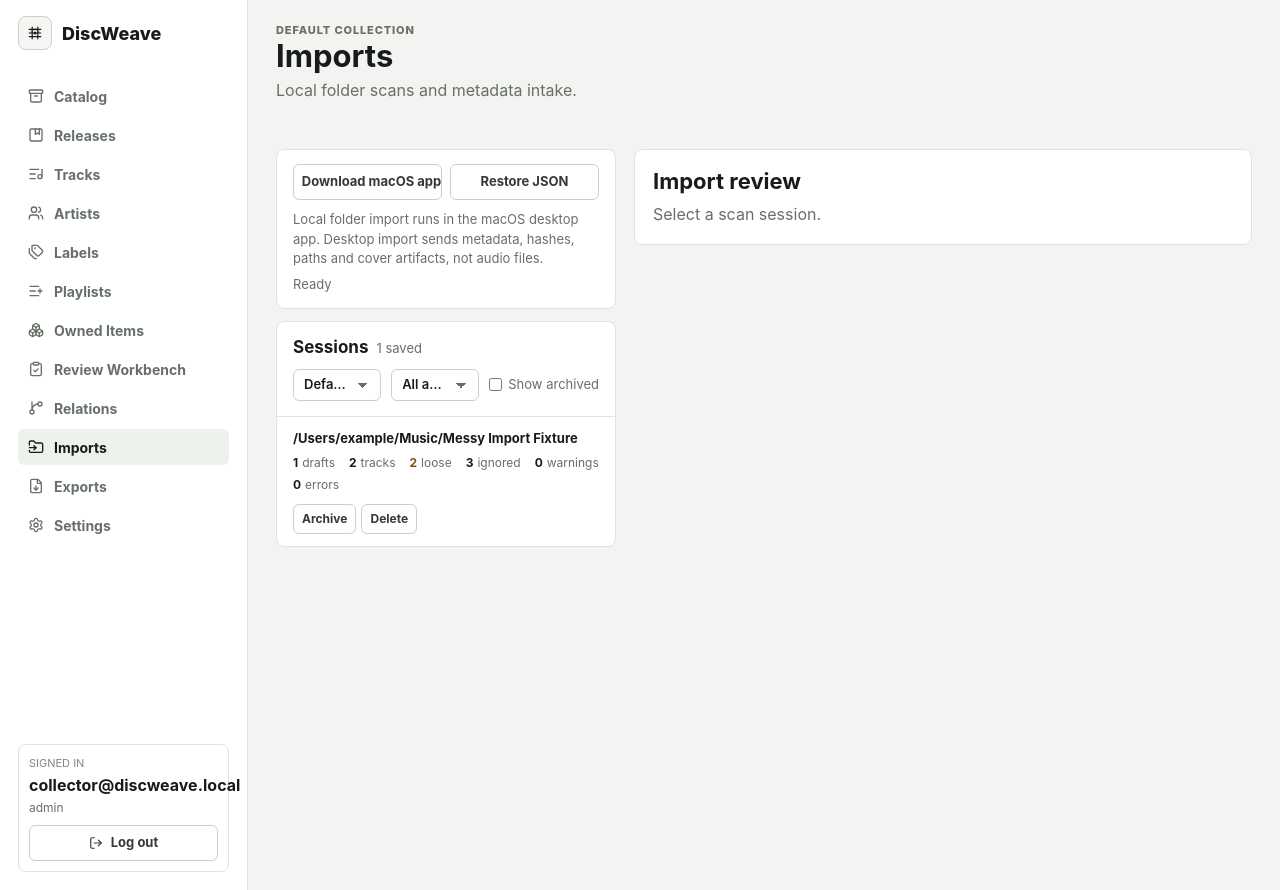
Test: App import regression fixtures › renders messy import drafts diagnostics and loose-file action affordances
What coordinates should you click on to do the following:
click the button "/Users/example/Music/Messy Import Fixture"
I would click on:
 (446, 438)
Its box is [293, 430, 599, 447].
(page scrolled)
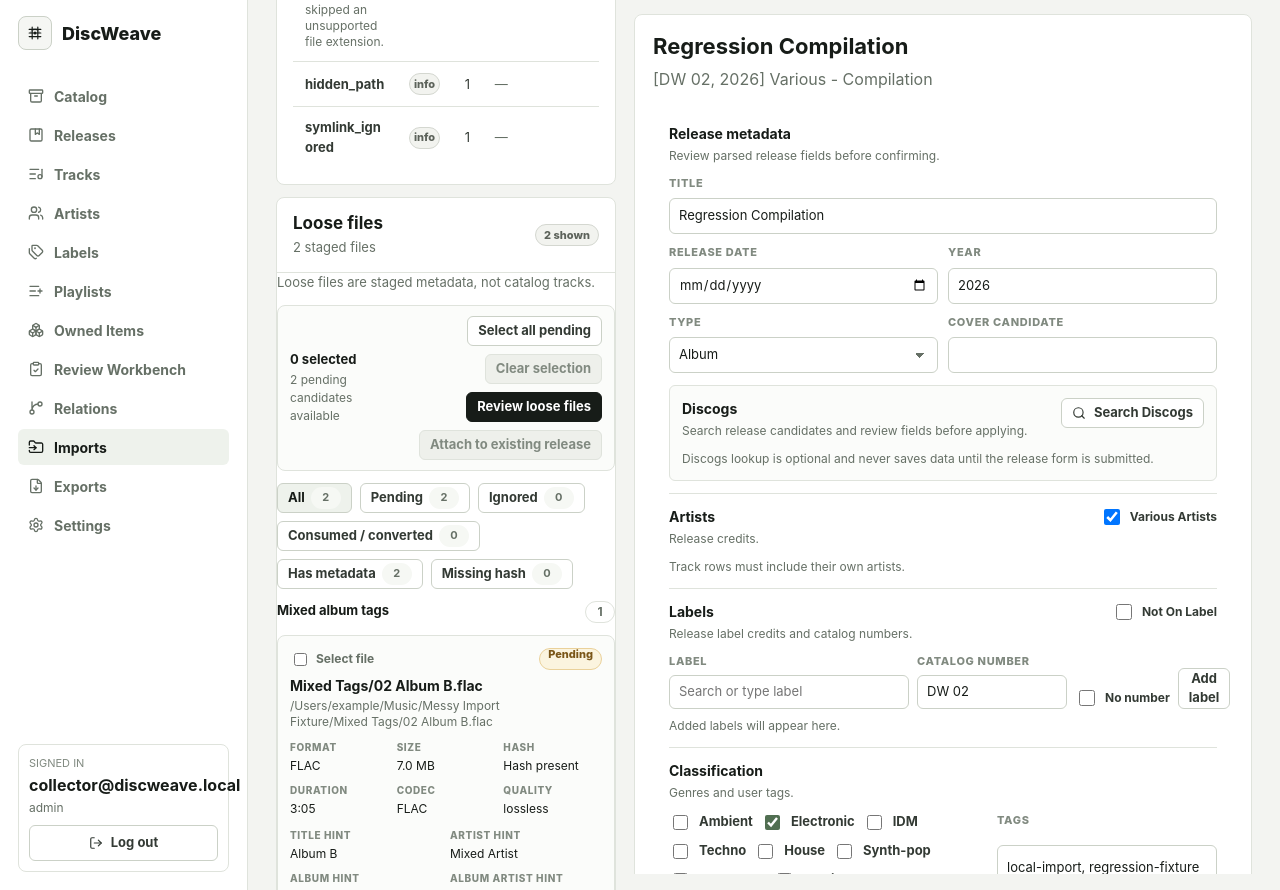
Expected: the heading "Regression Compilation" is shown, [653, 33, 908, 59]
Expected: the heading "Loose files" is shown, [293, 213, 383, 235]
Expected: the text "Mixed Tags/02 Album B.flac" is shown, [290, 677, 483, 694]
